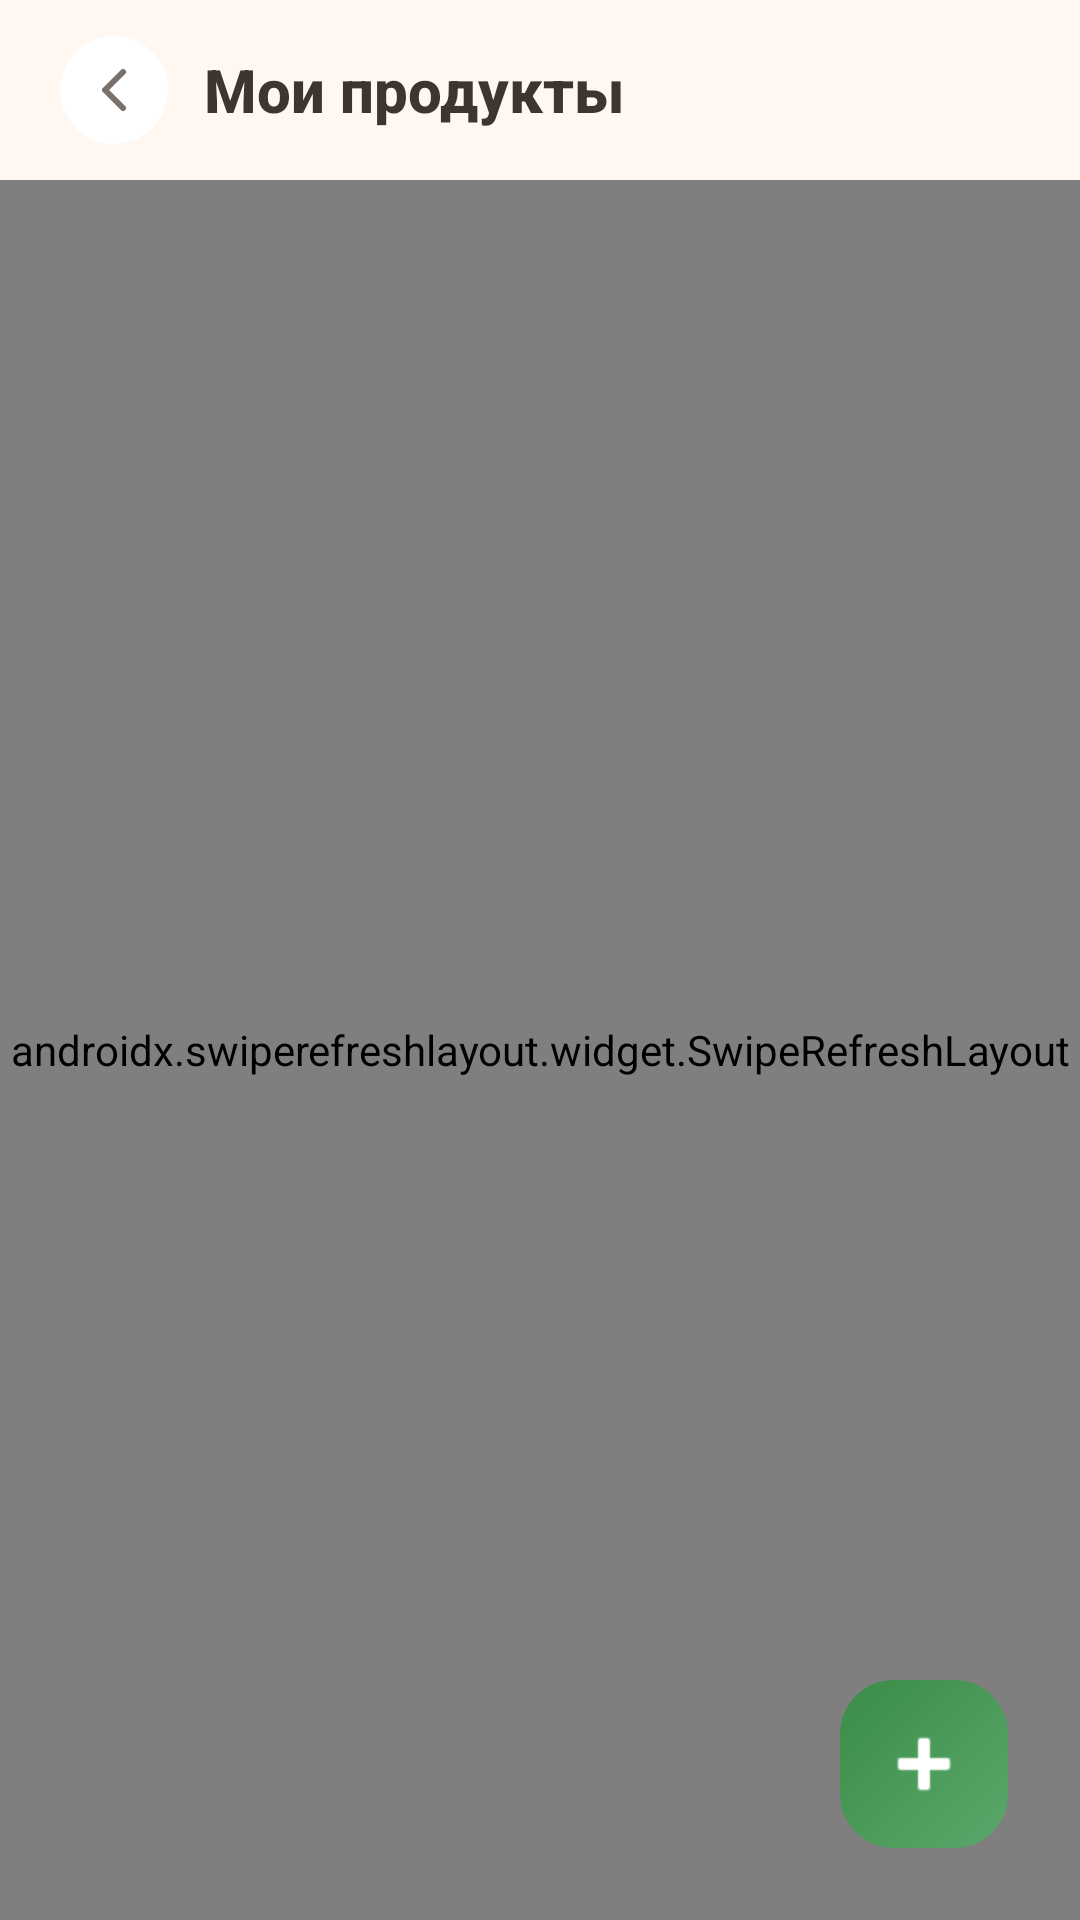

Point at icon controls on the screen. Image size 1080px×1920px, points as (x,y).
Добавить категорию: (924,1764)
Назад: (114,90)
